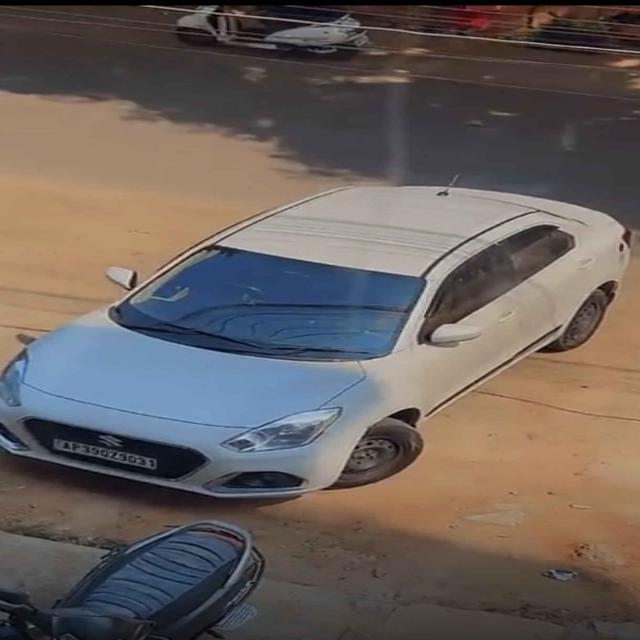bike: (6, 527, 291, 640), (166, 4, 386, 74)
car: (0, 135, 639, 521)
